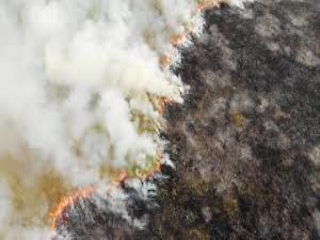fire: (158, 5, 222, 74), (43, 178, 96, 228), (138, 150, 174, 186)
smoke: (61, 31, 182, 144)
